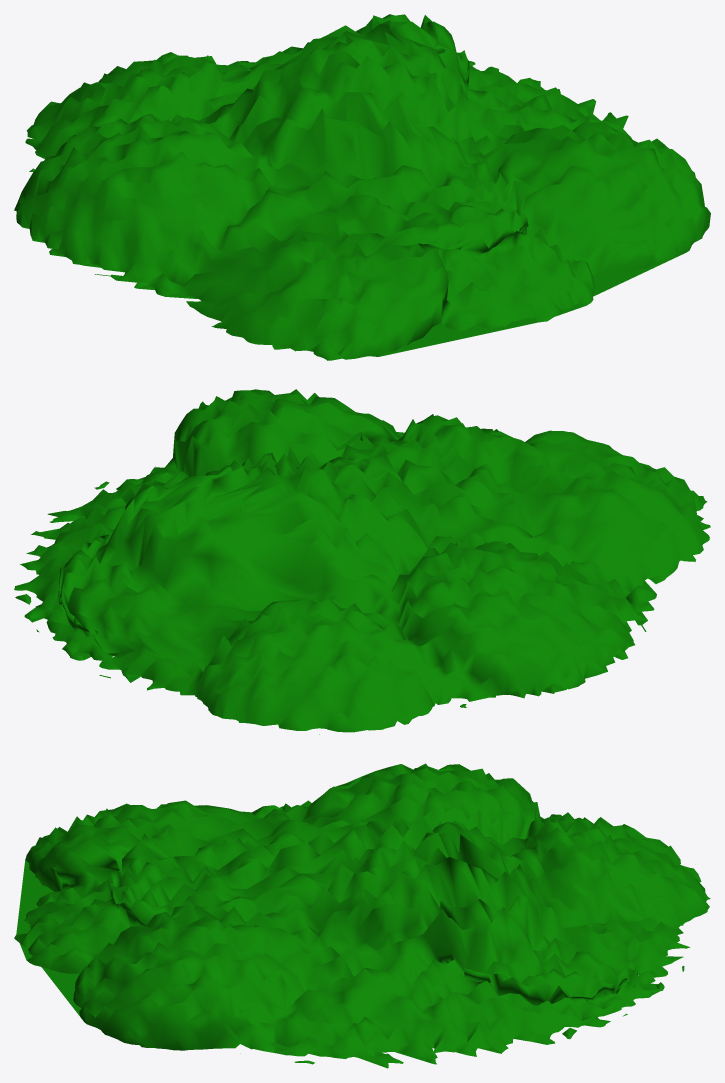
File: Briofita.fbx
3 renders of one model, top to bottom at view 1: azimuth 30°, elevation 25°; view 2: azimuth 150°, elevation 25°; view 3: azimuth 270°, elevation 25°, orthographic. The views are drawn at different scales.
Parts seen in each view (by area): view 1: Plane; view 2: Plane; view 3: Plane.
Part boxes in pixels (bbox=[...]): Plane: bbox=[14, 14, 710, 360]; Plane: bbox=[14, 389, 710, 734]; Plane: bbox=[14, 763, 710, 1068].
Size of the model in its own units: 180 by 36.53 by 192.
